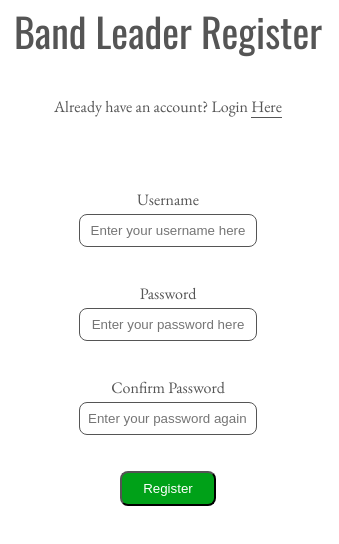
<BandleaderRegisterPage/> › Unsucessfully register user › Passwords don't match
This screenshot has width=339, height=544.
Type "testuser" into the field with test id "UsernameTextInput". click: (168, 230)
box: [79,214,257,247]
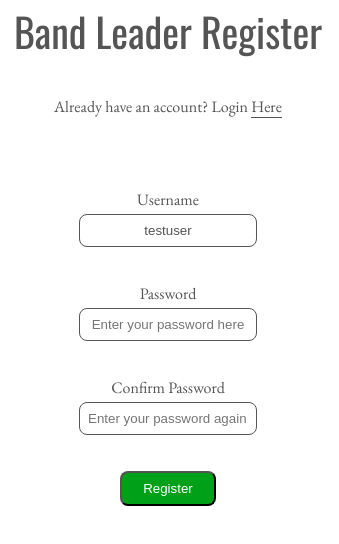
Type "testpassword" into the password field with test id "PasswordTextInput". click: (168, 324)
box: [79,308,257,341]
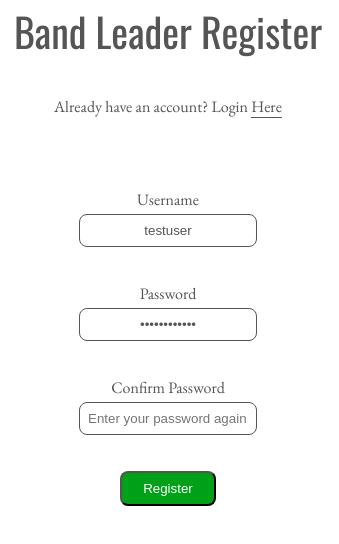
Type "testpassword123" into the password field with test id "Confirm PasswordTextInput". click: (168, 418)
box: [79,402,257,435]
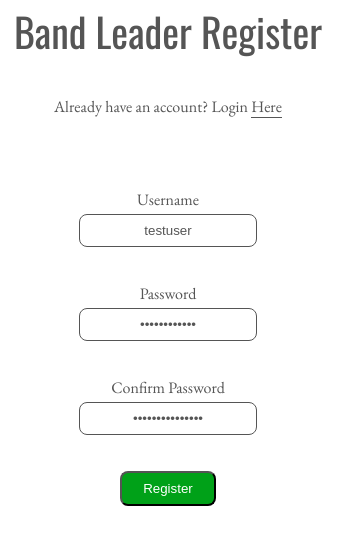
Click the button with test id "RegisterButton". click: (168, 488)
box: [120,471,216,506]
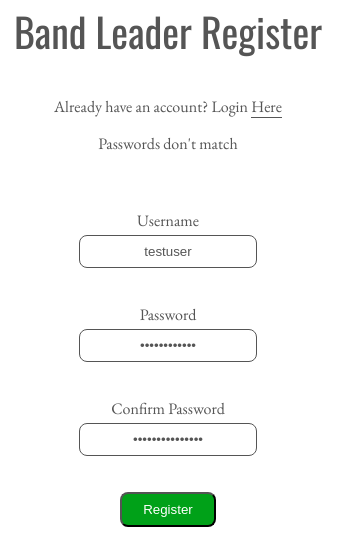
Result: the text "Passwords don't match" is shown at [98,133,238,154]
